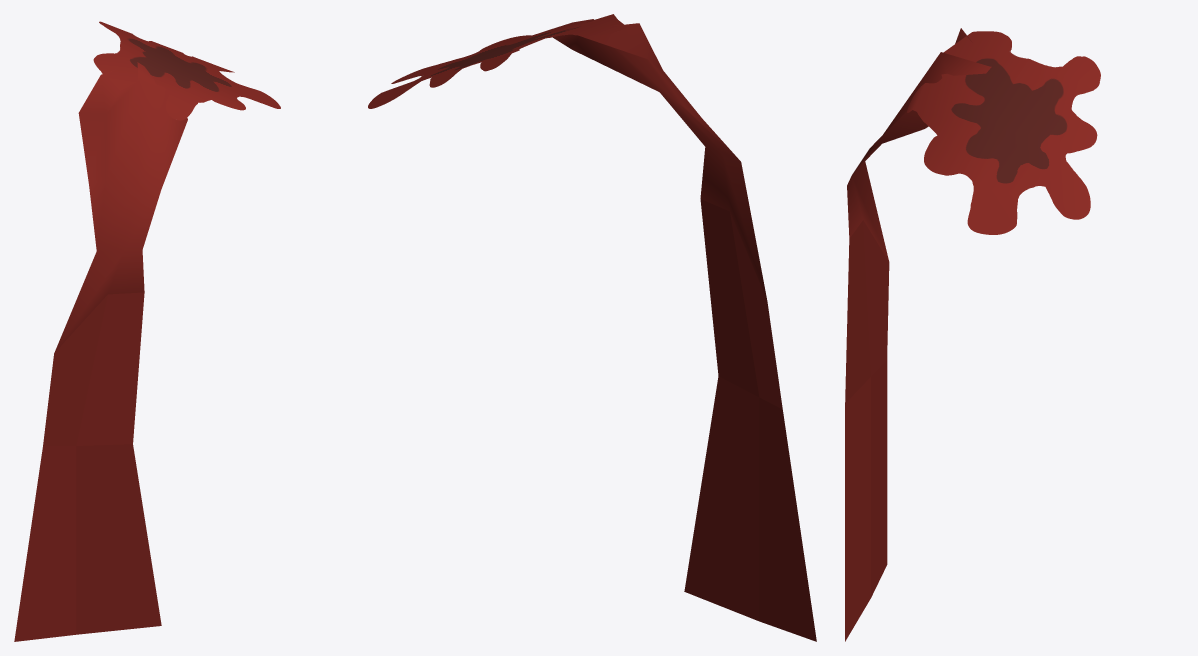
File: wound.fbx
The picture shows the model from 3 angles, left to right: view 1: azimuth 30°, elevation 25°; view 2: azimuth 150°, elevation 25°; view 3: azimuth 270°, elevation 25°; orthographic projection. The views are drawn at different scales.
Visible parts, largest first — view 1: pPlane2, pPlane1; view 2: pPlane2, pPlane1; view 3: pPlane1, pPlane2.
Part boxes in pixels (x1,y1,x2,y2): pPlane2: [14, 62, 187, 641]; pPlane1: [93, 21, 280, 120]; pPlane2: [553, 14, 816, 641]; pPlane1: [368, 17, 627, 108]; pPlane1: [907, 31, 1100, 234]; pPlane2: [845, 28, 991, 641].
Bounding box in the file's own units: 1.5 × 2.31 × 1.13.
